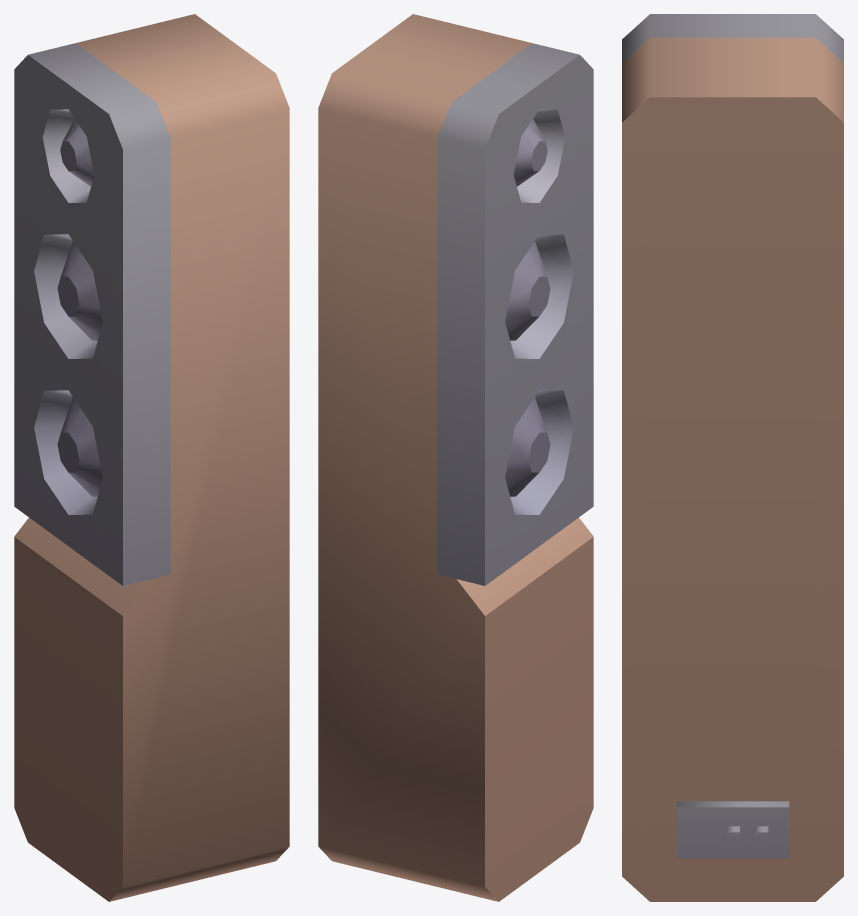
Rendered from speaker-large.glb.
3 views of the same model, side by side, from view 1: azimuth 30°, elevation 25°; view 2: azimuth 150°, elevation 25°; view 3: azimuth 270°, elevation 25° (orthographic). The views are drawn at different scales.
Parts seen in each view (by area): view 1: speaker-large; view 2: speaker-large; view 3: speaker-large.
Part boxes in pixels (bbox=[...]): speaker-large: bbox=[14, 14, 289, 901]; speaker-large: bbox=[318, 14, 593, 901]; speaker-large: bbox=[622, 14, 843, 901].
Bounding box in the file's own units: 0.2117 × 0.8352 × 0.2088.
